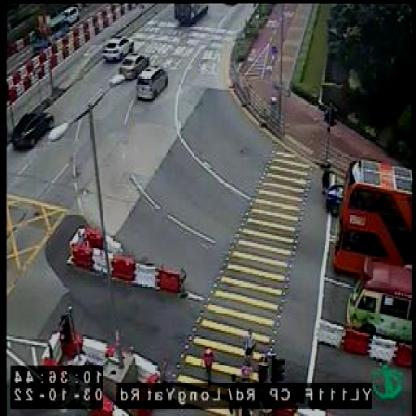Bus: (334, 156, 415, 276)
Car: (12, 111, 54, 151), (136, 66, 167, 99), (104, 33, 134, 62), (118, 50, 148, 75)
Minibus: (347, 255, 413, 338)
